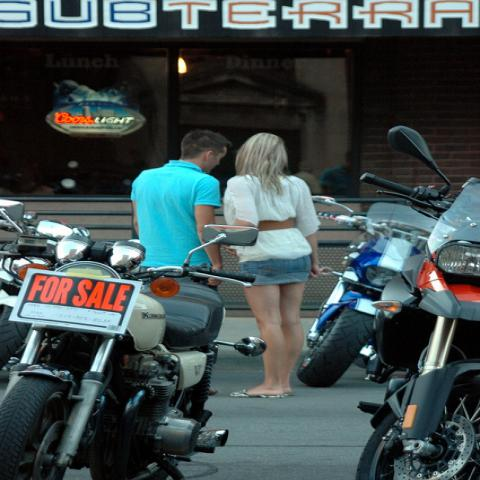motorcycle: (0, 217, 266, 474), (344, 122, 479, 479), (292, 194, 432, 388), (2, 202, 54, 376)
